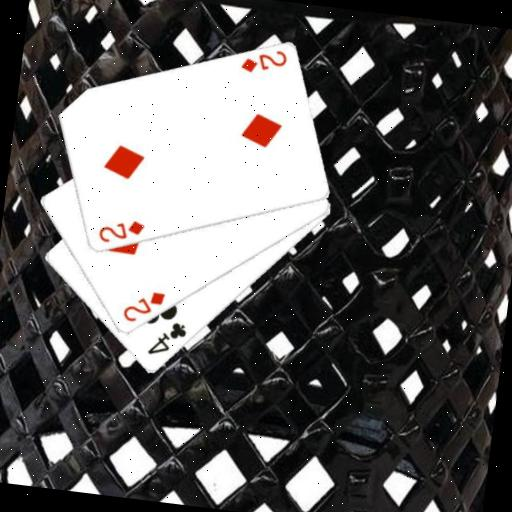2D: (118, 285, 167, 328), (95, 214, 147, 250), (238, 43, 290, 79)
4C: (144, 316, 191, 361)
